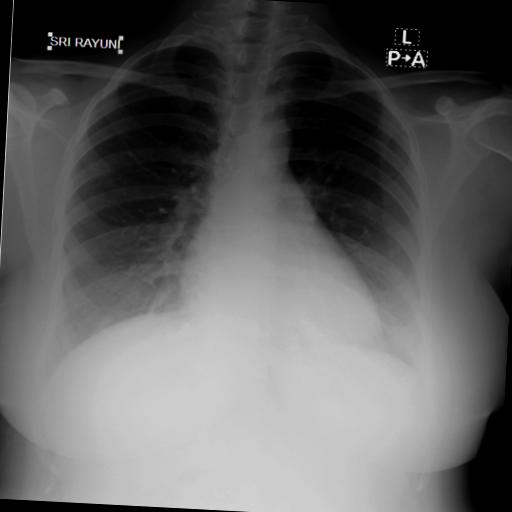kardiomegali: (30, 0, 462, 418)
